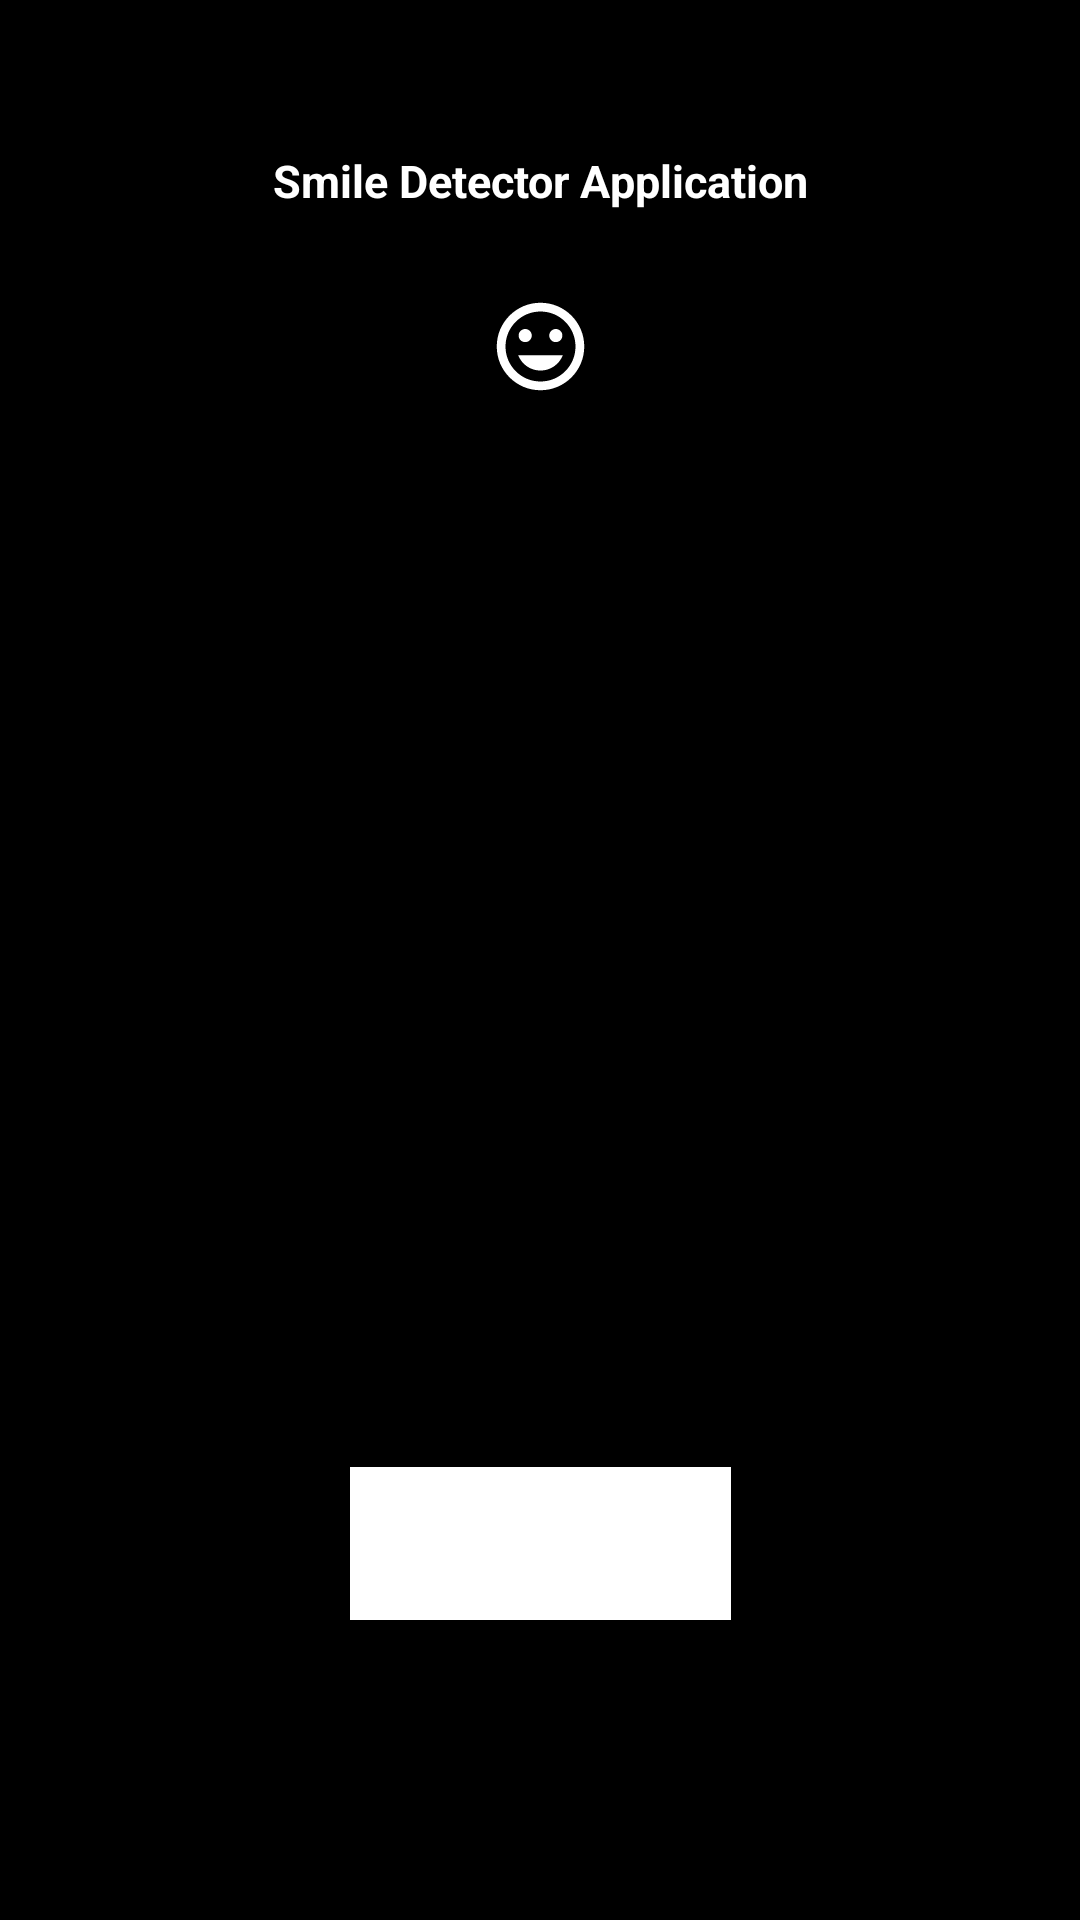

Icon click points for this 1080px x 1920px phone screenshot, format (x,y):
tag faces: (540,346)
